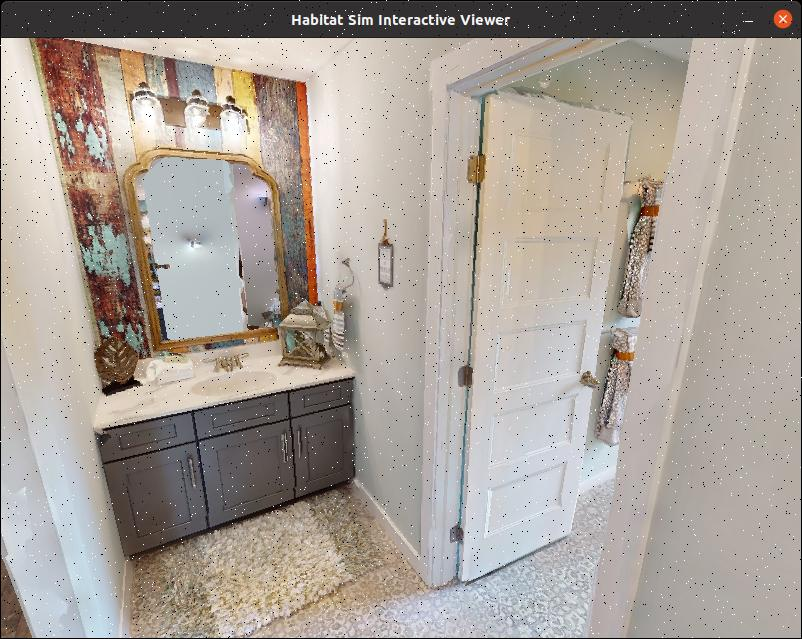door: (448, 89, 638, 590)
door-frame: (415, 39, 761, 639)
sink: (87, 329, 370, 519)
